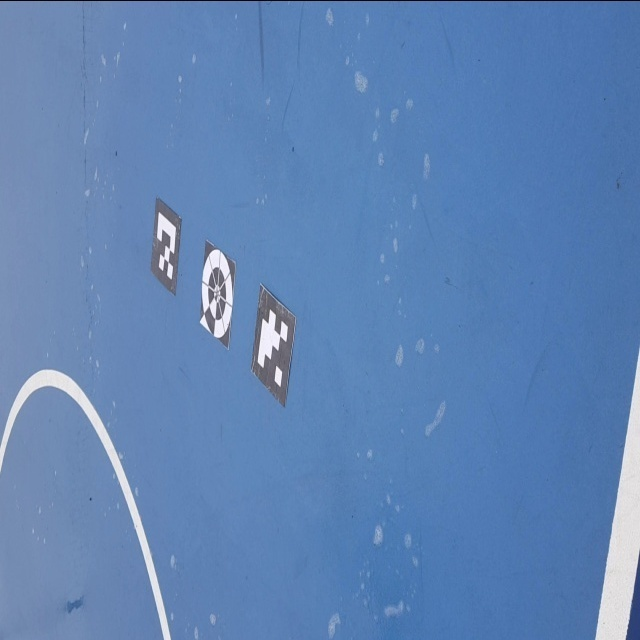landing-zone: (194, 240, 239, 348)
